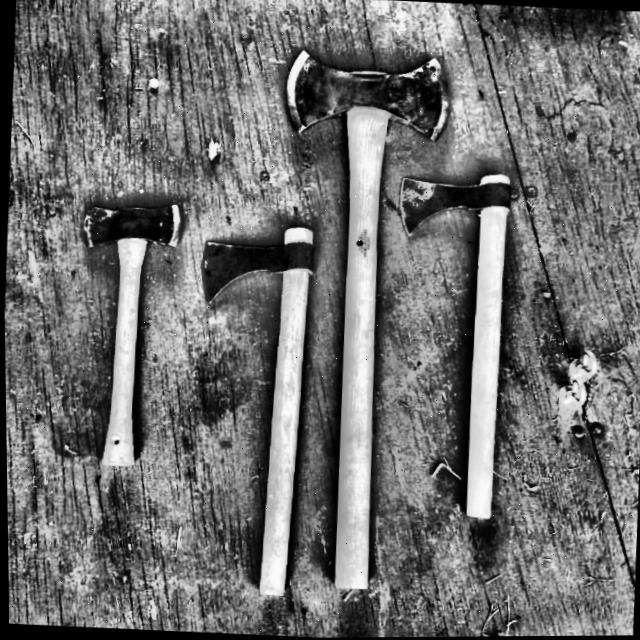kapak: (383, 170, 514, 525)
